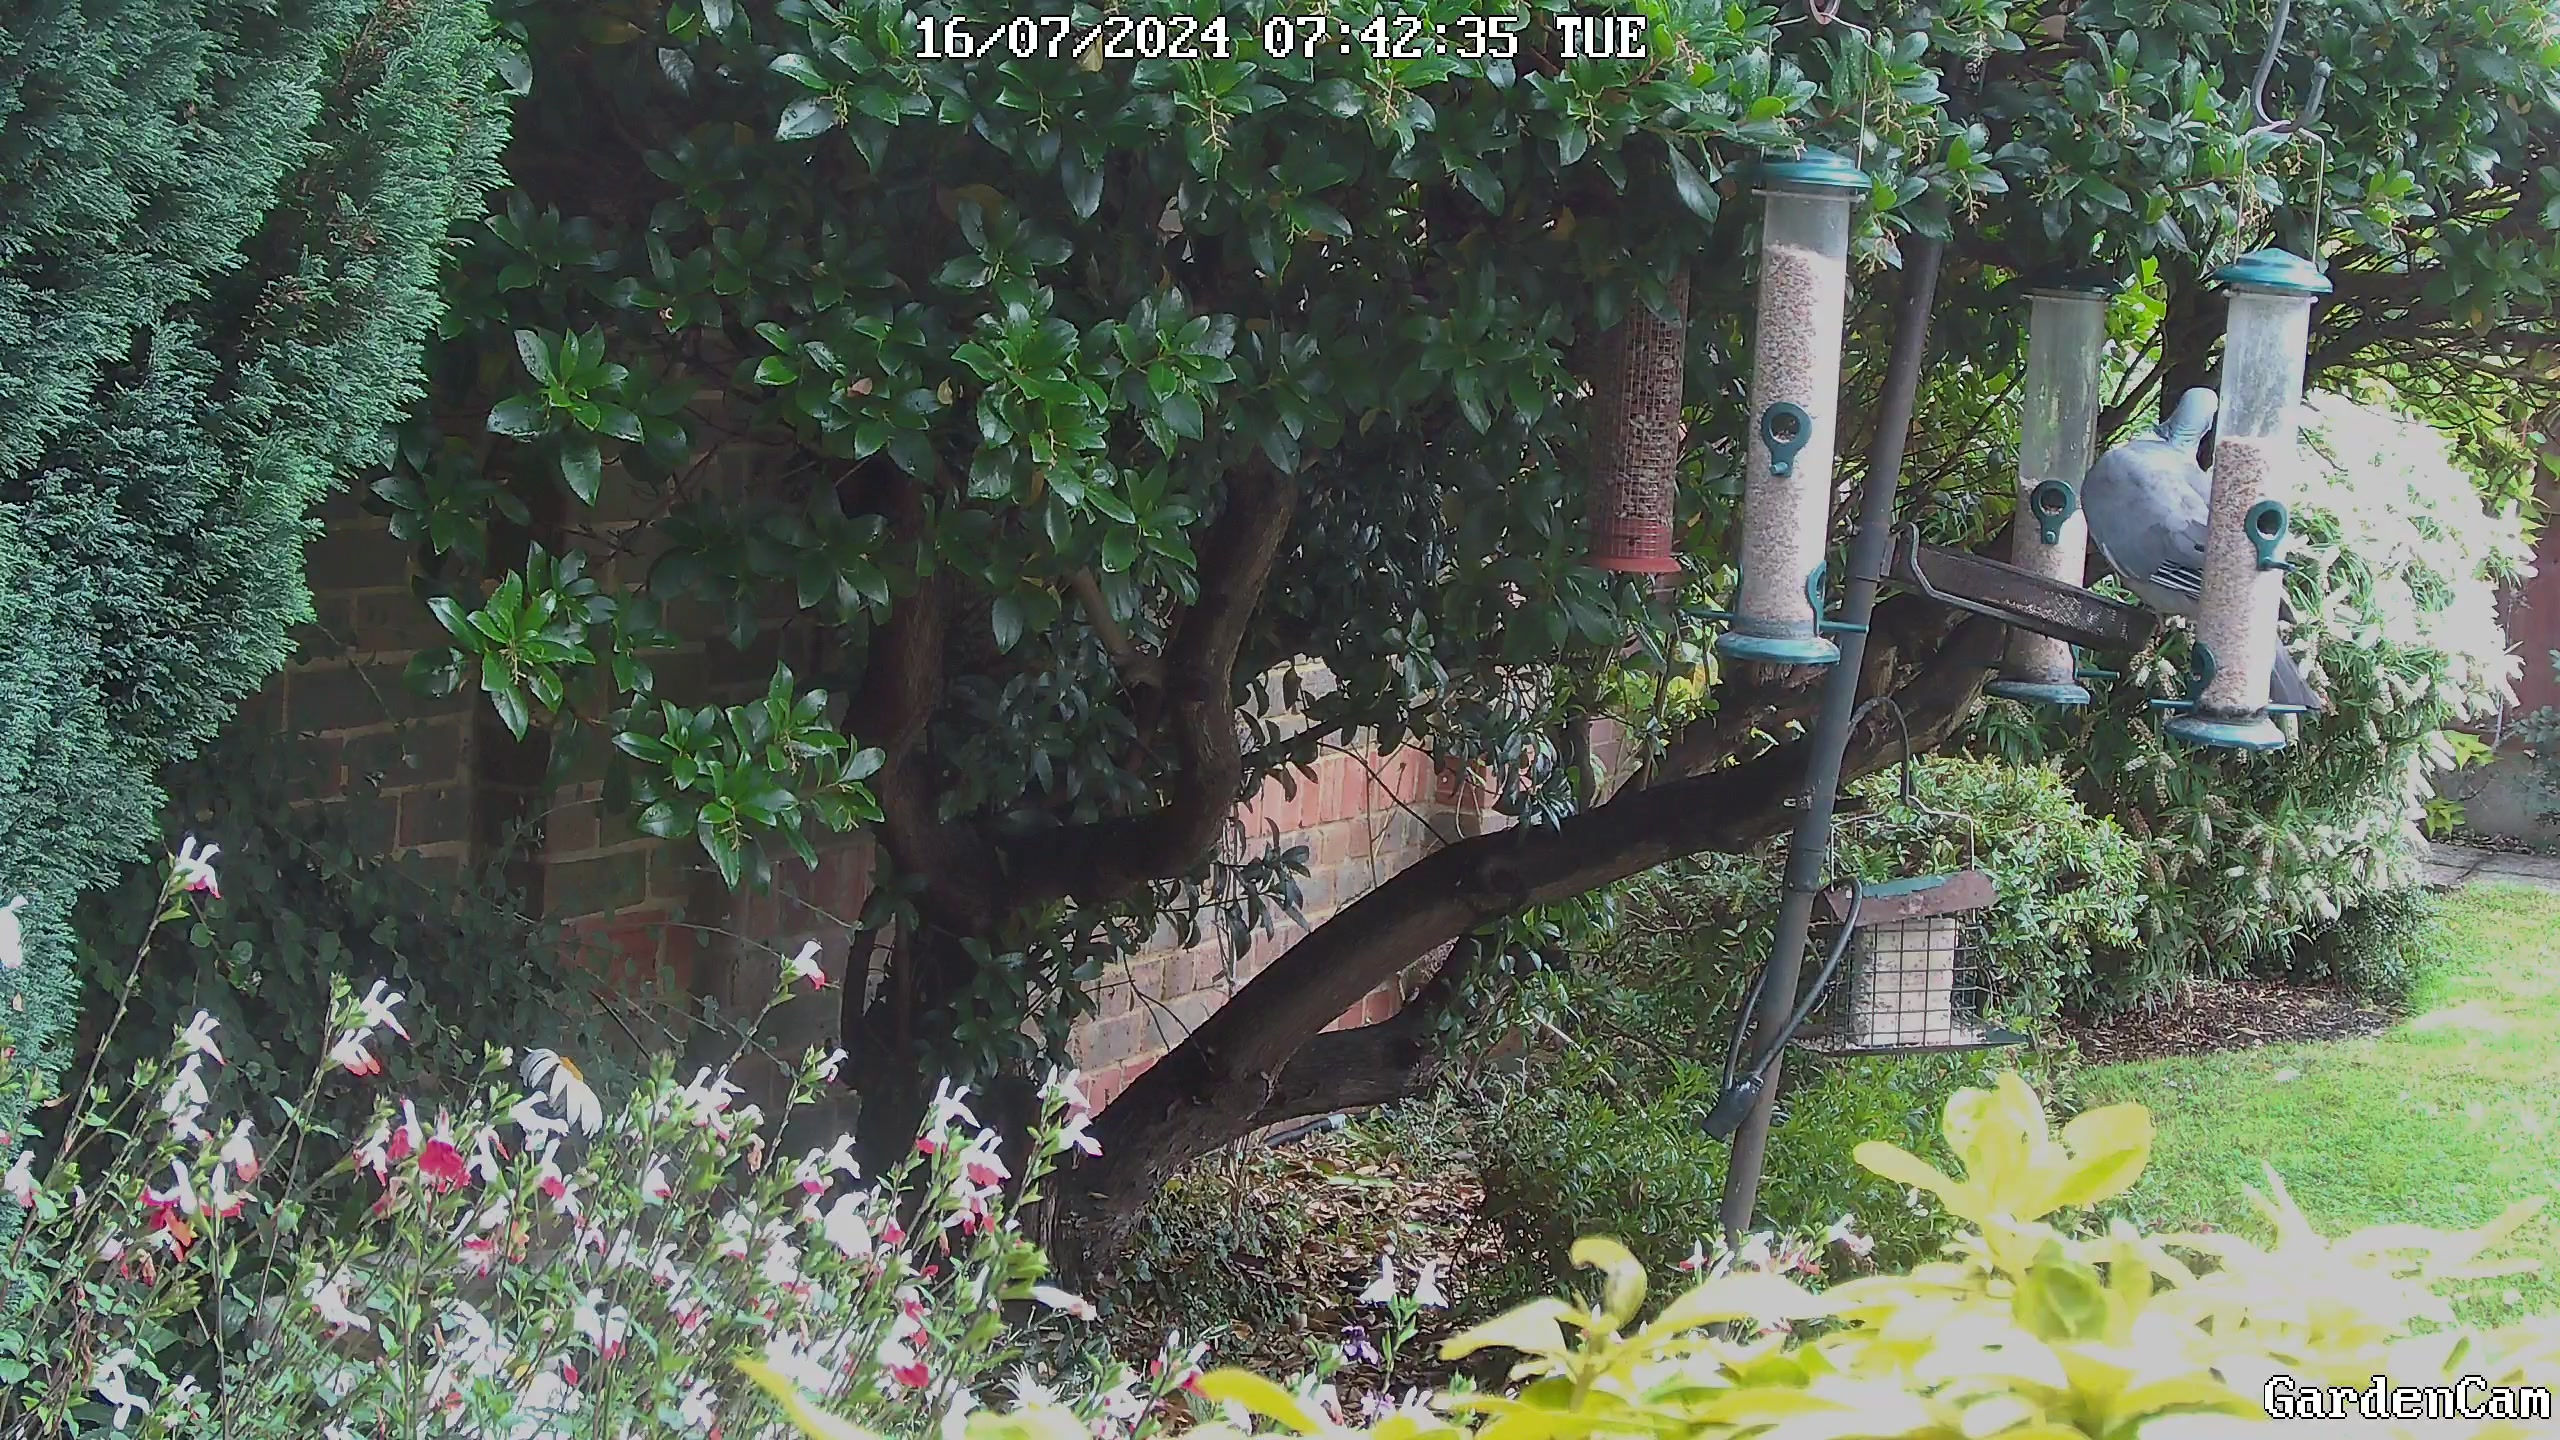Wood_Pigeon: (2068, 366, 2330, 709)
